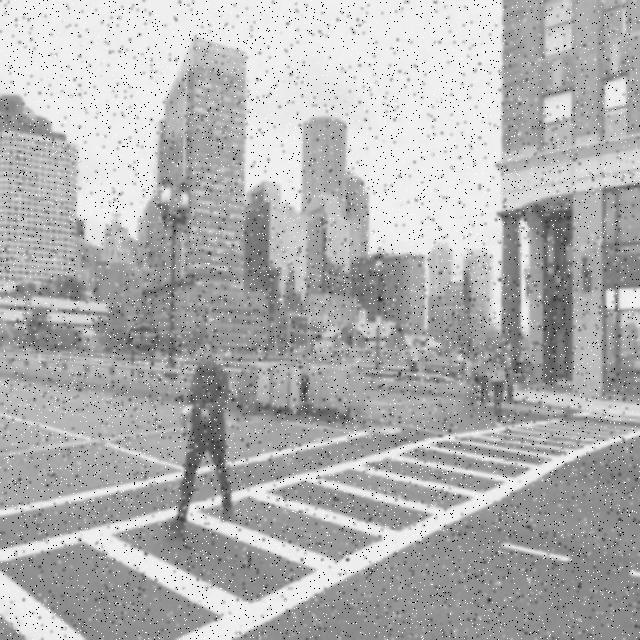crosswalk: (0, 409, 638, 640)
